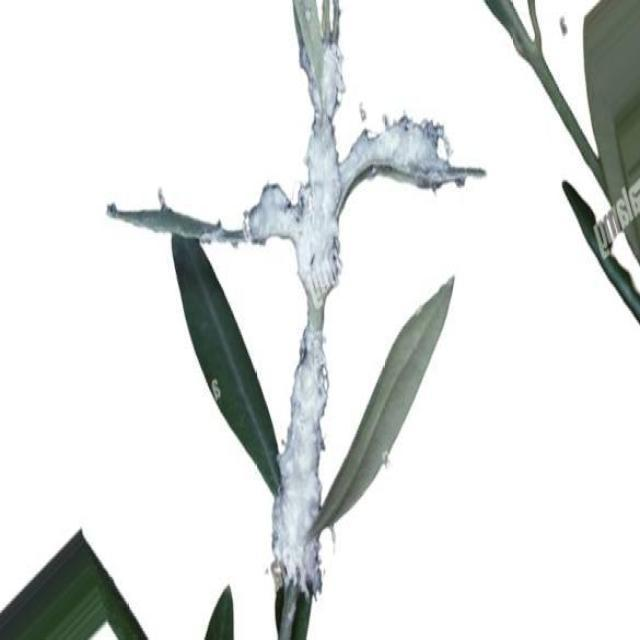Psyllid: (245, 42, 344, 618), (340, 113, 468, 209)
